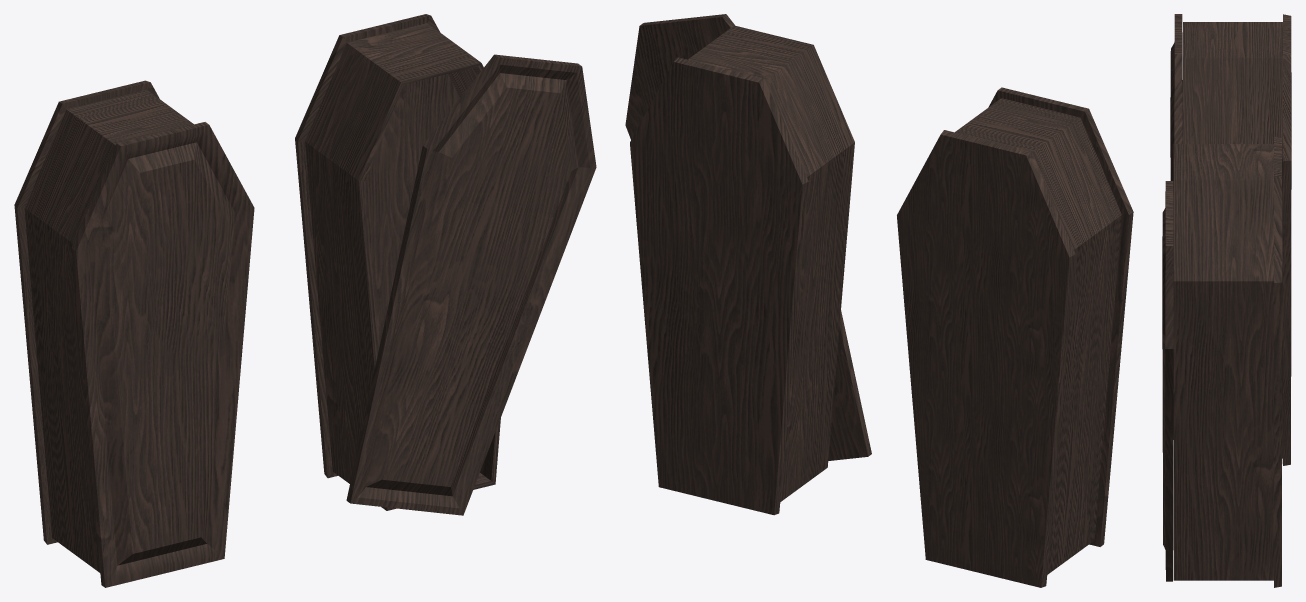
File: Coffins.fbx
3 renders of one model, left to right at view 1: azimuth 30°, elevation 25°; view 2: azimuth 150°, elevation 25°; view 3: azimuth 270°, elevation 25°, orthographic. The views are drawn at different scales.
Visible parts, largest first — view 1: Coffin 2, Coffin 1; view 2: Coffin 2, Coffin 1; view 3: Coffin 2, Coffin 1.
Boxes of the visible parts, left/top/right/bottom form: Coffin 2: left=295, top=14, right=596, bottom=515; Coffin 1: left=14, top=80, right=254, bottom=587; Coffin 2: left=625, top=14, right=871, bottom=515; Coffin 1: left=897, top=87, right=1133, bottom=587; Coffin 2: left=1162, top=136, right=1282, bottom=587; Coffin 1: left=1170, top=14, right=1291, bottom=465.
Size of the model in its own units: 2.51 by 2.1 by 0.5878.
